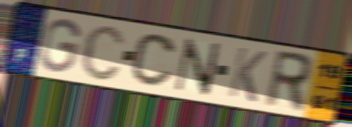C: (78, 22, 127, 83), (129, 32, 178, 89)
G: (37, 17, 83, 75)
K: (225, 44, 269, 105)
N: (172, 37, 223, 98)
R: (262, 48, 314, 115)
